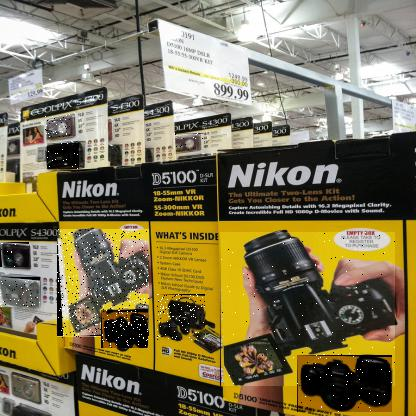Camera: (221, 233, 397, 388), (58, 231, 151, 341), (298, 356, 394, 414), (158, 295, 207, 342), (102, 312, 150, 350), (1, 278, 42, 309), (48, 144, 81, 171), (1, 243, 31, 269), (46, 115, 76, 139), (173, 134, 205, 152)
